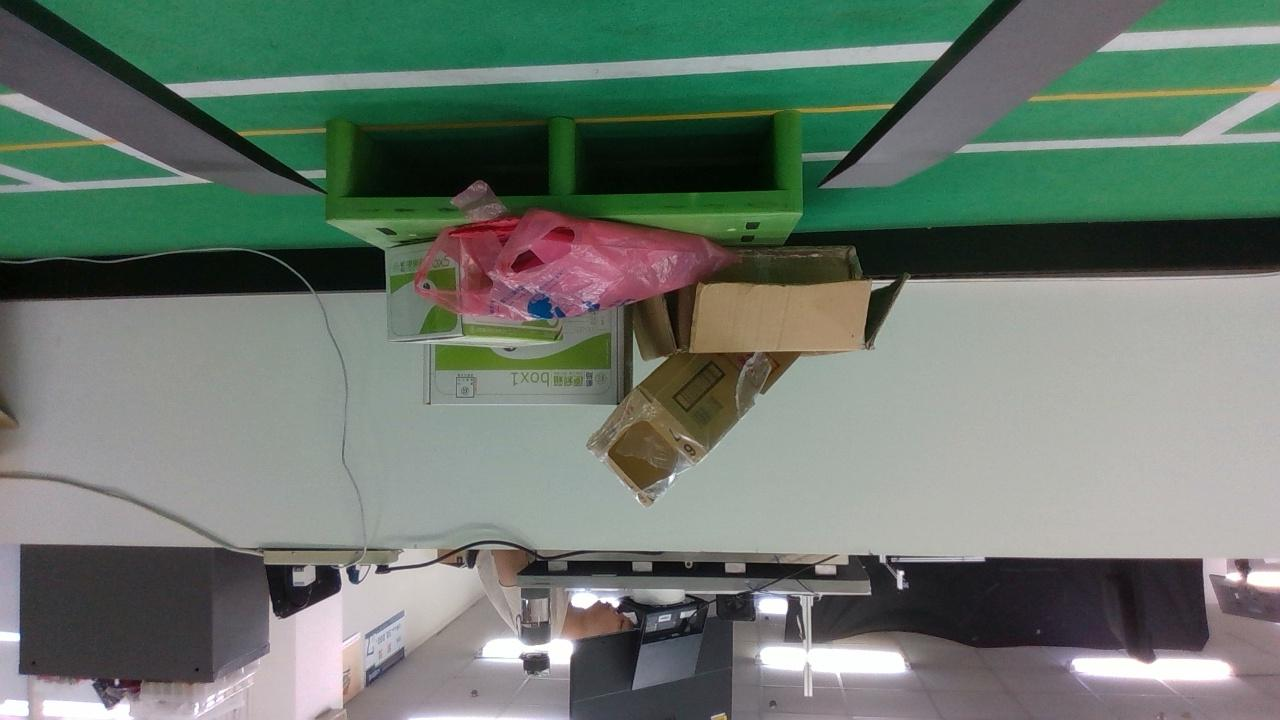Pallet: (325, 111, 805, 221)
